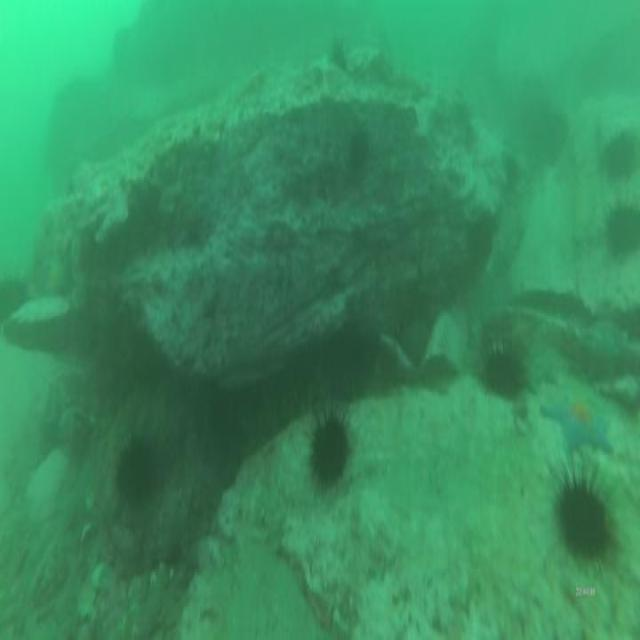echinus: (551, 454, 614, 574), (111, 427, 163, 507), (306, 406, 354, 492), (484, 336, 524, 411), (597, 122, 640, 188), (538, 102, 572, 170), (607, 198, 640, 266), (346, 126, 370, 177), (327, 36, 349, 74)
starfish: (540, 390, 620, 460)
